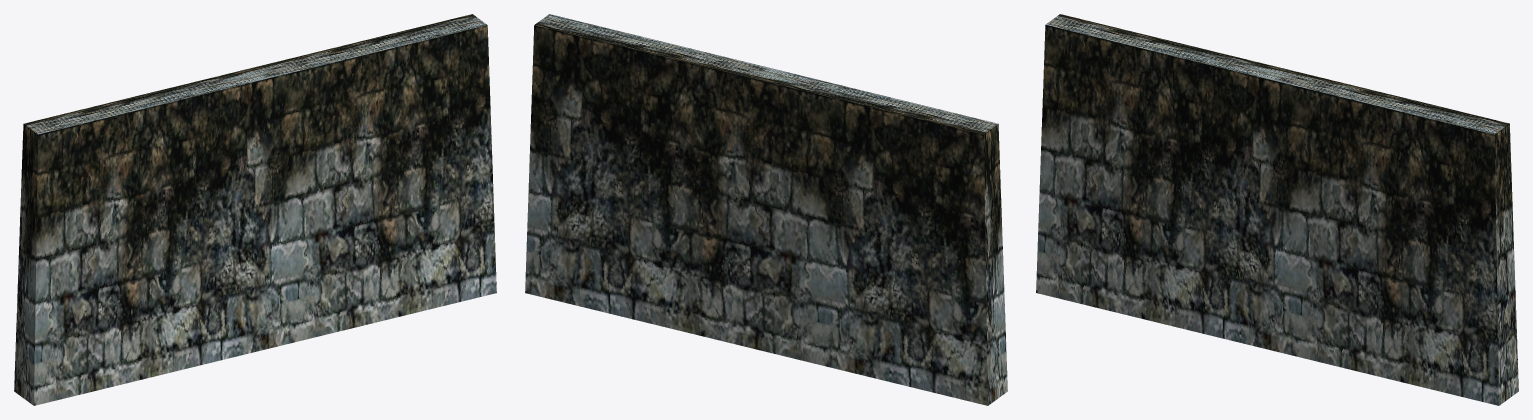
3 renders of one model, left to right at view 1: azimuth 30°, elevation 25°; view 2: azimuth 150°, elevation 25°; view 3: azimuth 330°, elevation 25°, orthographic.
Parts seen in each view (by area): view 1: hr_hs2-col; view 2: hr_hs2-col; view 3: hr_hs2-col.
Part boxes in pixels (<box>): hr_hs2-col: <box>14,14,496,405</box>; hr_hs2-col: <box>525,14,1007,405</box>; hr_hs2-col: <box>1036,14,1518,405</box>.
Size of the model in its own units: 6.69 by 3.7 by 0.4979.
1 material, 1 textured.
